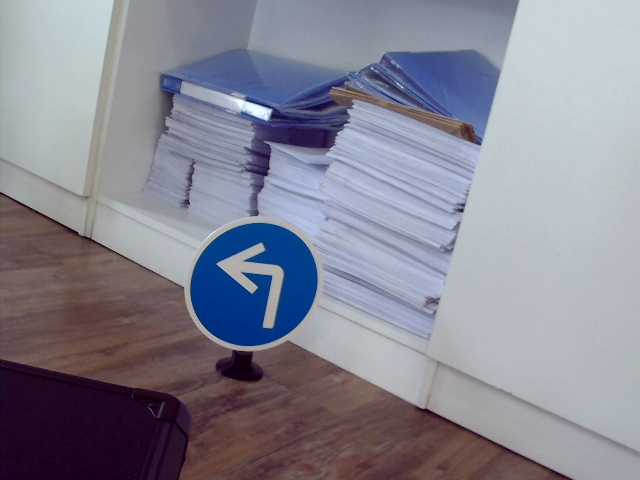turn_left: (217, 239, 284, 334)
